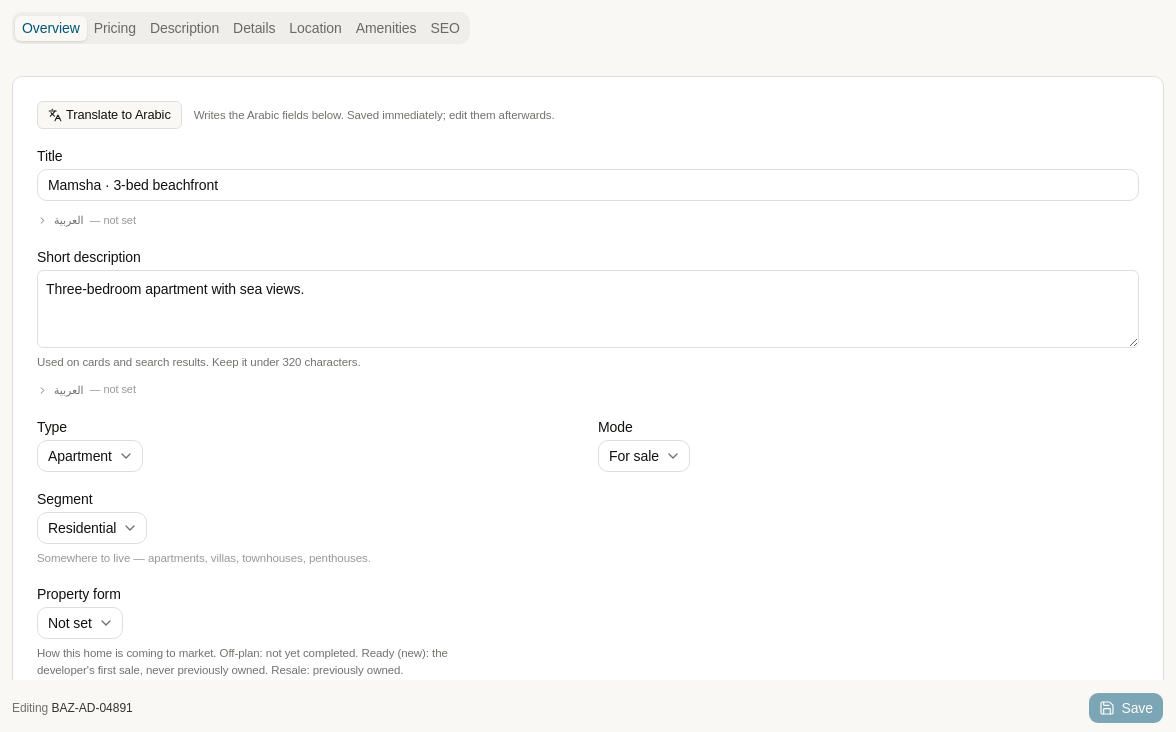
Test: <PropertyEditForm> › surfaces server-side field errors back into the form
The width and height of the screenshot is (1176, 732).
Type " v2" into the field labelled "Title". click: (588, 185)
box: 37,169 -> 1139,201
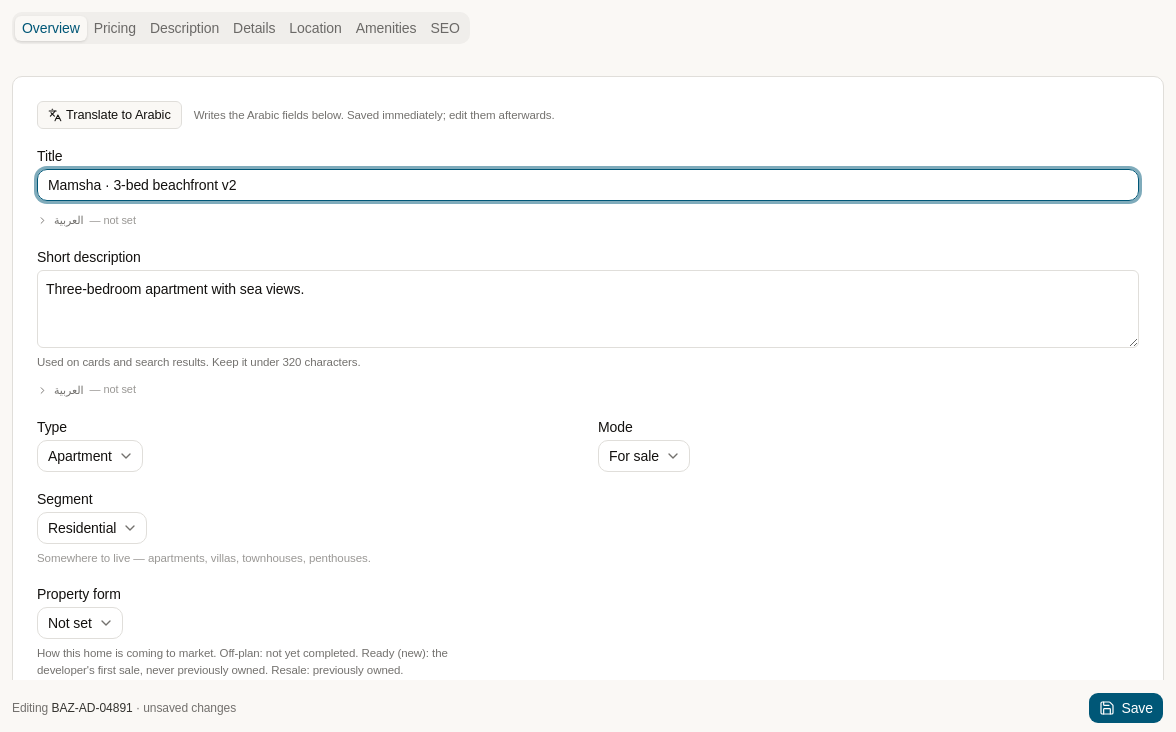
Click the button "Save". click: (1126, 708)
box: 1088,692 -> 1164,724
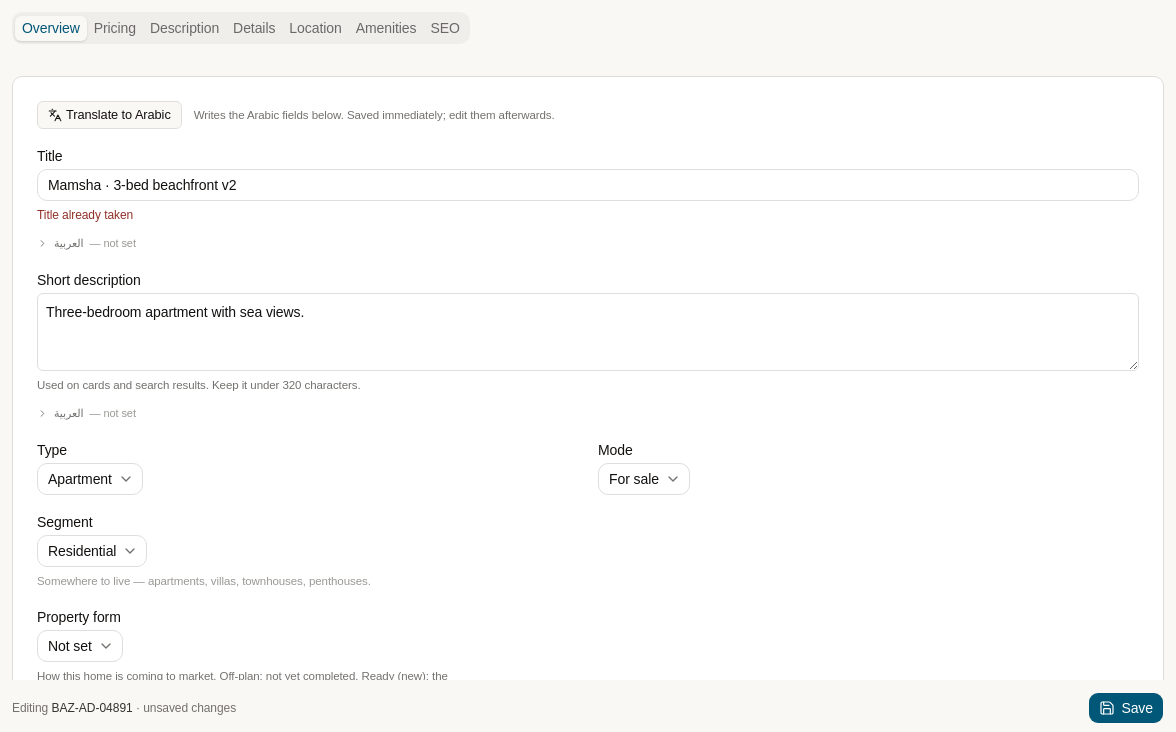
Now the text "Title already taken" is shown, box 37,208 -> 133,222
